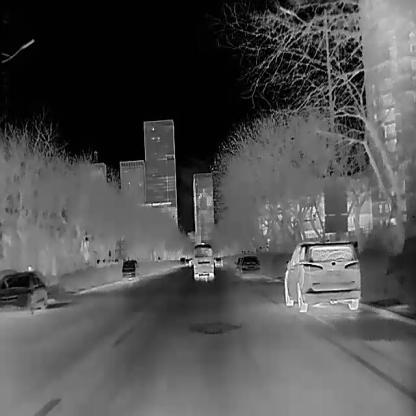car: (284, 239, 360, 313), (0, 269, 46, 314), (192, 241, 213, 279), (238, 255, 261, 277), (120, 259, 140, 281), (213, 256, 223, 267), (179, 256, 185, 266)
